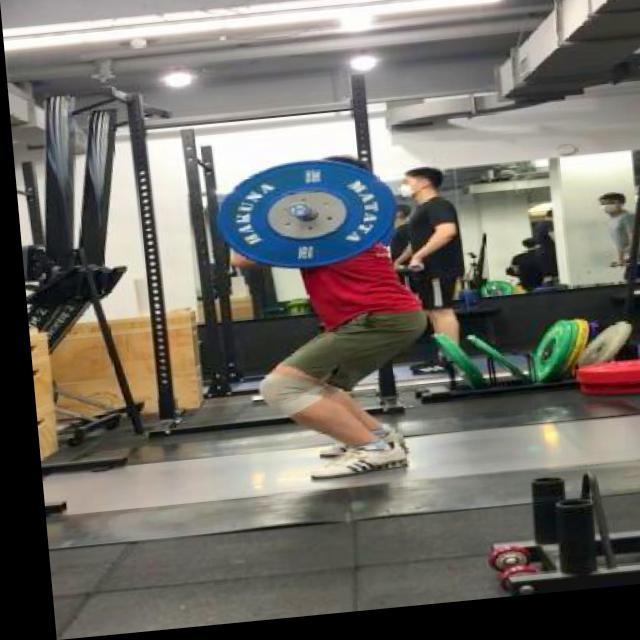barbell: (209, 156, 399, 284)
